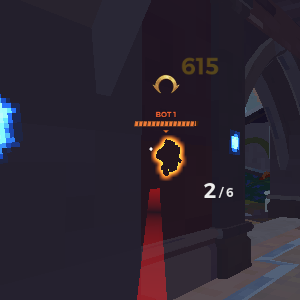model: (153, 136, 183, 184)
